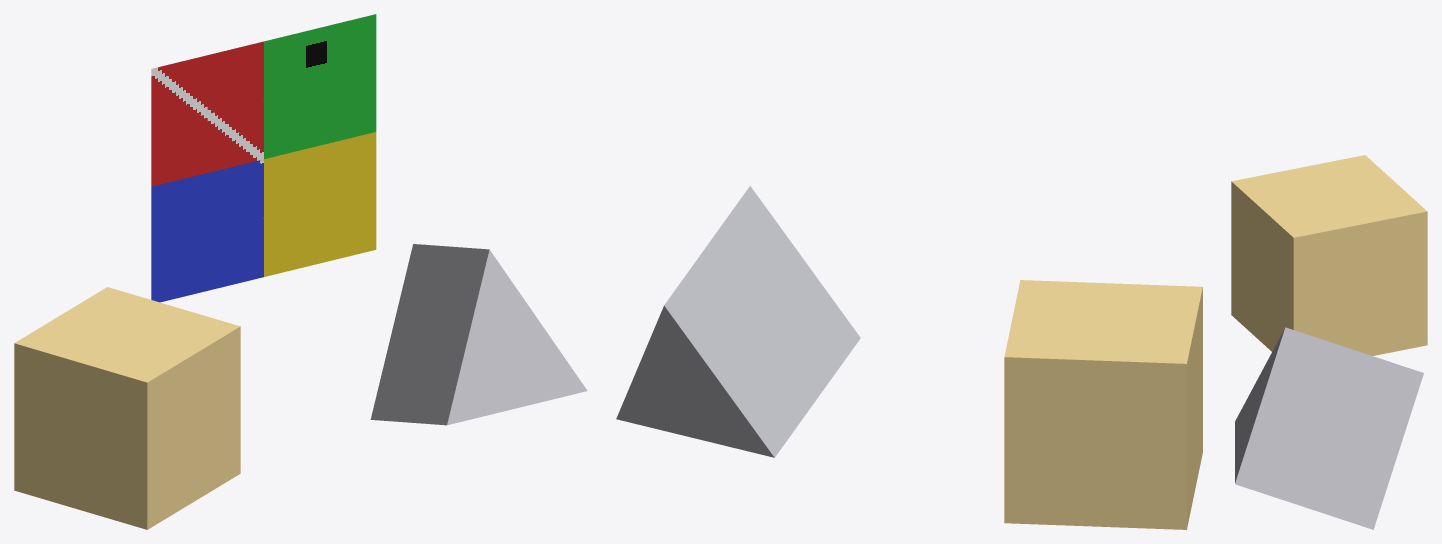
Rendered from metal.cz.glb.
The picture shows the model from 3 angles, left to right: view 1: azimuth 30°, elevation 25°; view 2: azimuth 150°, elevation 25°; view 3: azimuth 270°, elevation 25°; orthographic projection. The views are drawn at different scales.
Size of the model in its own units: 3.56 by 2.69 by 1.33.
3 materials, 1 textured.
